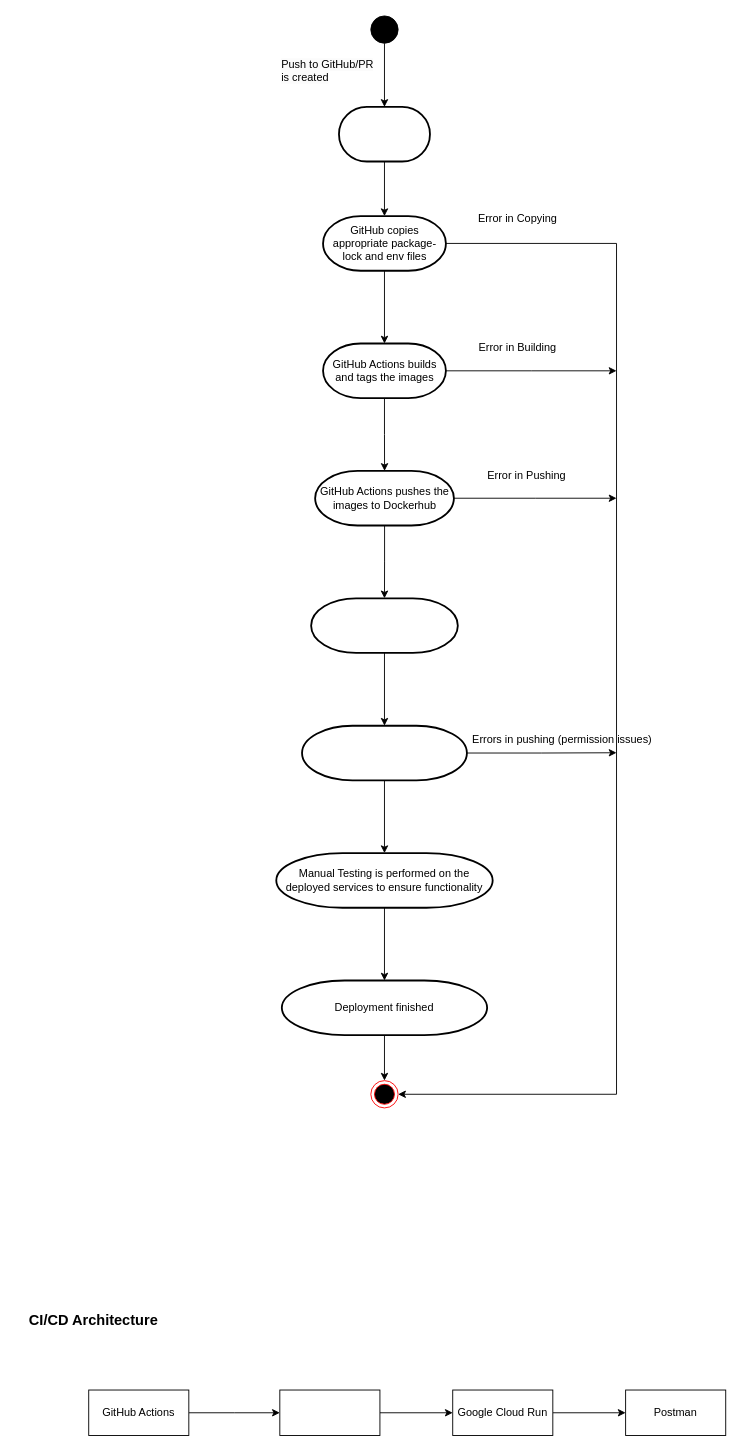
This 742x1451 diagram has some shape labels left out. The shapes that lost their labels are listed below. From the top down, each one's centre as x and y in pixels, then its label:
(x=384, y=134): GitHub Action is triggered
(x=384, y=625): The images are pulled by a user
(x=384, y=752): The images are tagged and pushed to Google Cloud Run
(x=329, y=1412): Dockerhub
